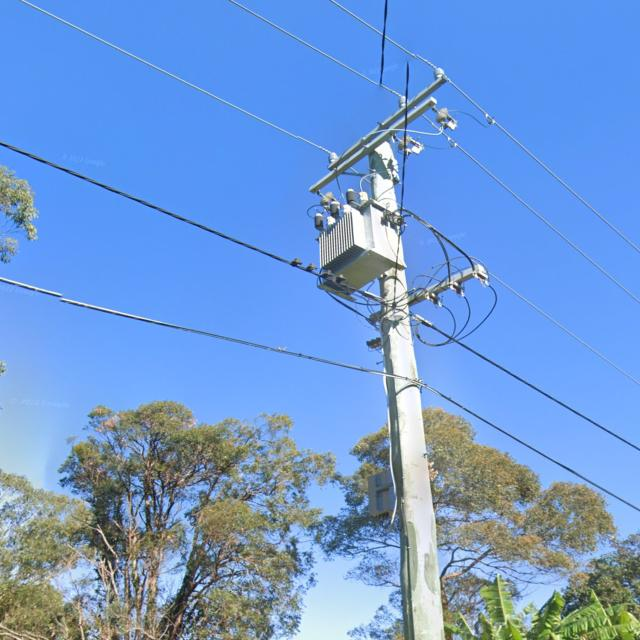HV-transmission: (307, 66, 457, 194)
LV link: (424, 292, 453, 316), (448, 281, 471, 310), (472, 268, 495, 296)
crossarm: (309, 96, 439, 193), (326, 76, 448, 172), (367, 261, 488, 325)
timber-pole: (366, 143, 444, 640)
transformer: (313, 190, 396, 304)
